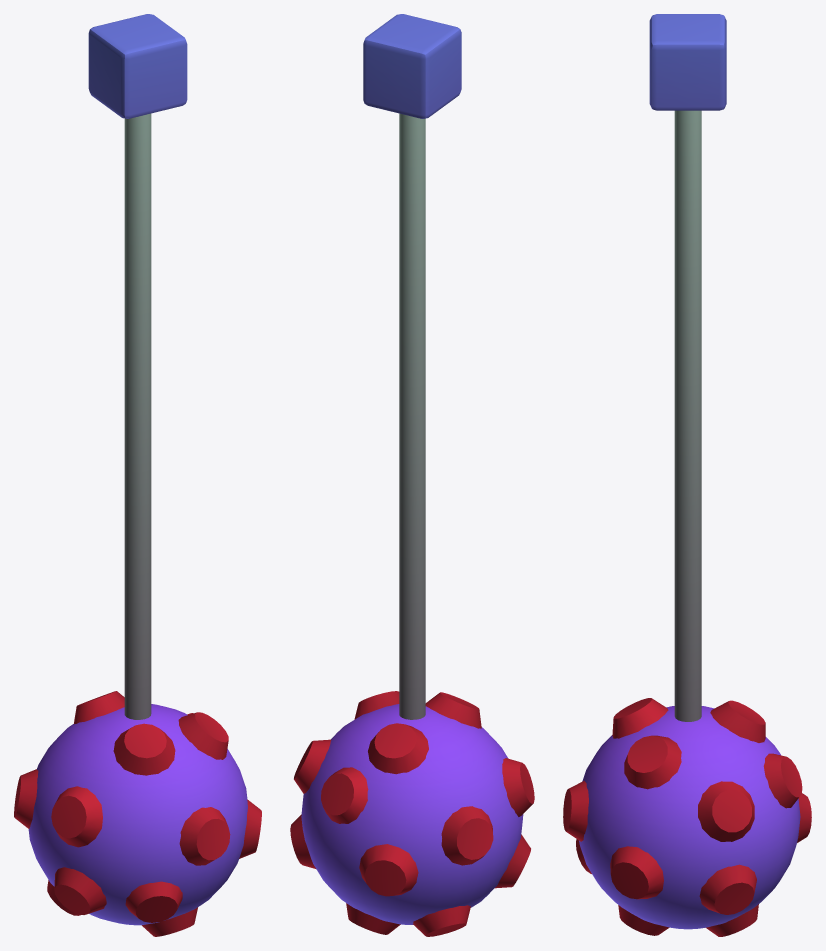
Rendered from Obs_17.fbx.
The picture shows the model from 3 angles, left to right: view 1: azimuth 30°, elevation 25°; view 2: azimuth 150°, elevation 25°; view 3: azimuth 270°, elevation 25°; orthographic projection.
Visible parts, largest first — view 1: Obs_17_Ball_02, Obs_17_Ball_01, Obs_17_Ball, Obs_17_Top; view 2: Obs_17_Ball_02, Obs_17_Ball, Obs_17_Ball_01, Obs_17_Top; view 3: Obs_17_Ball_02, Obs_17_Ball, Obs_17_Ball_01, Obs_17_Top.
Boxes of the visible parts, x1,y1,x2,y2 form: Obs_17_Ball_02: [28, 704, 247, 925]; Obs_17_Ball_01: [124, 113, 151, 719]; Obs_17_Ball: [14, 691, 261, 936]; Obs_17_Top: [88, 14, 187, 118]; Obs_17_Ball_02: [301, 704, 523, 924]; Obs_17_Ball: [290, 691, 534, 936]; Obs_17_Ball_01: [399, 113, 425, 719]; Obs_17_Top: [363, 14, 461, 118]; Obs_17_Ball_02: [579, 706, 800, 929]; Obs_17_Ball: [563, 698, 811, 936]; Obs_17_Ball_01: [674, 110, 701, 721]; Obs_17_Top: [649, 14, 726, 110].
Bounding box in the file's own units: 2.1 × 8.84 × 2.21.
